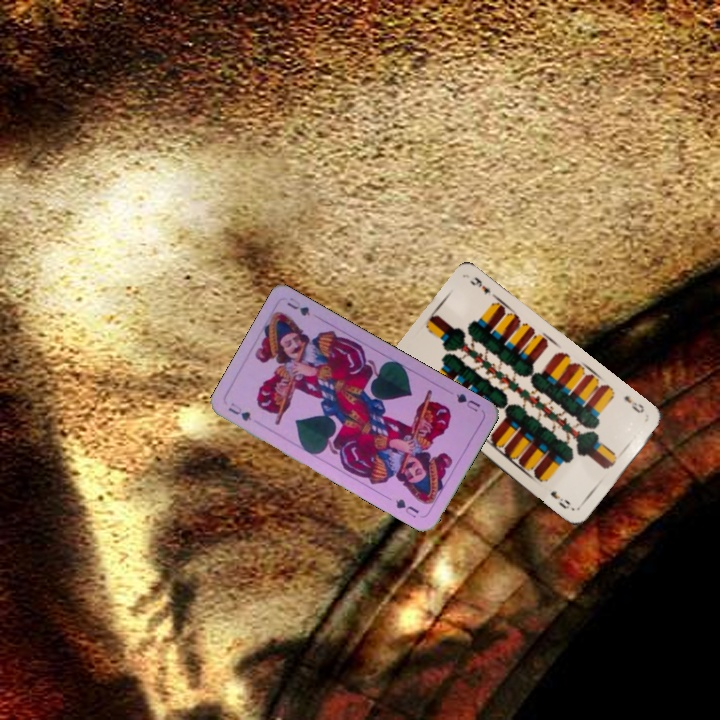E9: (620, 391, 647, 416)
GU: (452, 389, 483, 415), (224, 399, 254, 424)
